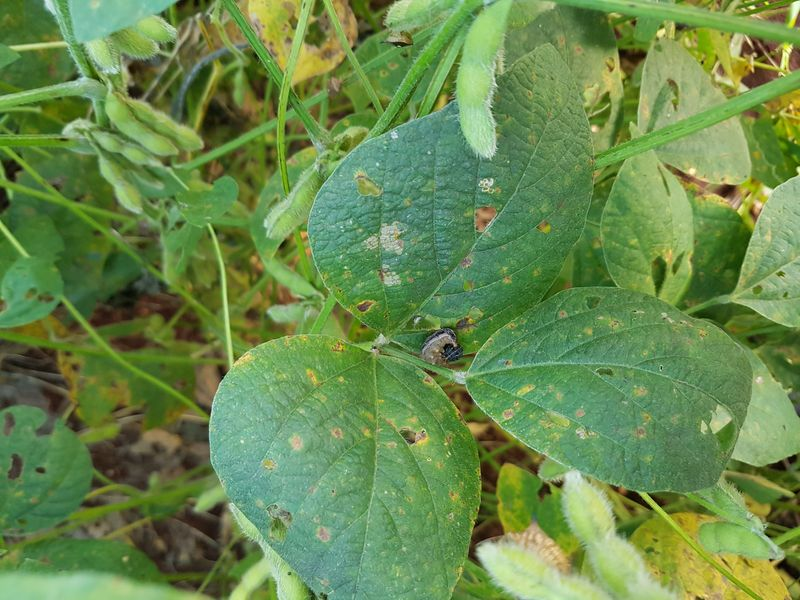Spodoptera_albula: (407, 315, 479, 382)
